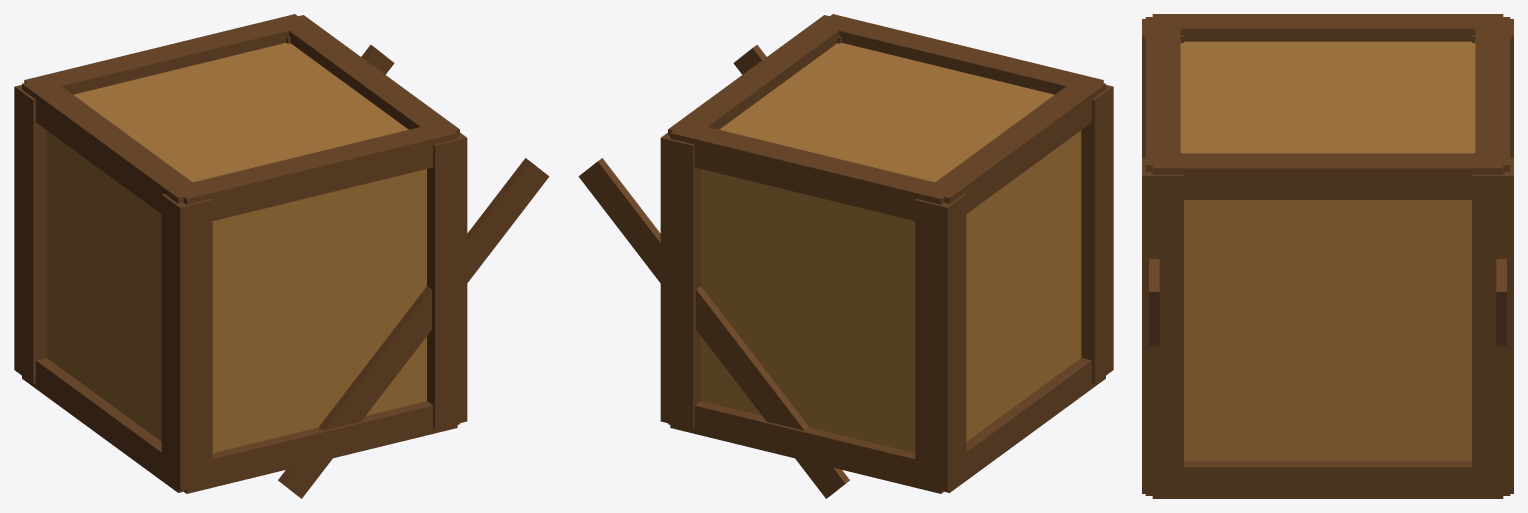
Rendered from crate.glb.
3 renders of one model, left to right at view 1: azimuth 30°, elevation 25°; view 2: azimuth 150°, elevation 25°; view 3: azimuth 270°, elevation 25°, orthographic. The views are drawn at different scales.
Visible parts, largest first — view 1: body, post, post.002, rail.005, brace, post.001, rail.004, rail.001, rail.007, rail.006, rail; view 2: body, post.001, post.003, rail.007, brace.001, post, rail.004, rail.003, rail.005, rail.006, rail; view 3: body, rail.006, post.002, post.003, rail.002, rail.004, rail.005, rail.007, brace, brace.001, post, post.001.
Part boxes in pixels (x1=…): body: x1=46, y1=43, x2=426, y2=452; post: x1=161, y1=193, x2=212, y2=491; post.002: x1=427, y1=132, x2=467, y2=429; rail.005: x1=172, y1=121, x2=457, y2=220; brace: x1=278, y1=158, x2=549, y2=498; post.001: x1=14, y1=85, x2=46, y2=383; rail.004: x1=22, y1=77, x2=204, y2=213; rail.001: x1=183, y1=401, x2=457, y2=493; rail.007: x1=24, y1=14, x2=309, y2=94; rail.006: x1=277, y1=15, x2=459, y2=135; rail: x1=22, y1=358, x2=183, y2=492; body: x1=701, y1=43, x2=1081, y2=452; post.001: x1=915, y1=193, x2=966, y2=491; post.003: x1=660, y1=132, x2=700, y2=429; rail.007: x1=670, y1=122, x2=955, y2=220; brace.001: x1=578, y1=158, x2=849, y2=498; post: x1=1081, y1=85, x2=1113, y2=383; rail.004: x1=923, y1=77, x2=1105, y2=213; rail.003: x1=670, y1=401, x2=944, y2=493; rail.005: x1=817, y1=14, x2=1103, y2=94; rail.006: x1=668, y1=15, x2=849, y2=135; rail: x1=944, y1=358, x2=1105, y2=492; body: x1=1180, y1=41, x2=1475, y2=461; rail.006: x1=1152, y1=153, x2=1503, y2=199; post.002: x1=1142, y1=158, x2=1183, y2=493; post.003: x1=1472, y1=158, x2=1513, y2=493; rail.002: x1=1152, y1=461, x2=1503, y2=498; rail.004: x1=1152, y1=14, x2=1503, y2=41; rail.005: x1=1145, y1=17, x2=1180, y2=171; rail.007: x1=1475, y1=17, x2=1510, y2=171; brace: x1=1149, y1=259, x2=1159, y2=346; brace.001: x1=1496, y1=259, x2=1506, y2=346; post: x1=1142, y1=19, x2=1183, y2=158; post.001: x1=1472, y1=19, x2=1513, y2=158.
Bounding box in the file's own units: 1.37 × 1.16 × 1.06.
